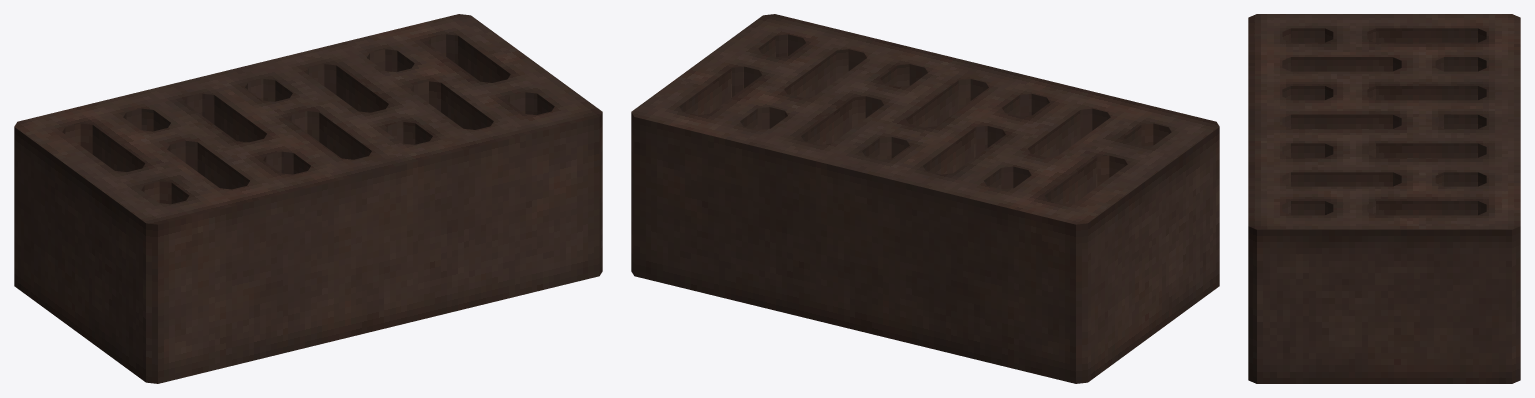
Rendered from brick.glb.
3 views of the same model, side by side, from view 1: azimuth 30°, elevation 25°; view 2: azimuth 150°, elevation 25°; view 3: azimuth 270°, elevation 25° (orthographic). The views are drawn at different scales.
Visible parts, largest first — view 1: brick; view 2: brick; view 3: brick.
Part boxes in pixels (box(x1,y1,x2,y2)): brick: box(14, 14, 602, 383); brick: box(631, 14, 1219, 383); brick: box(1248, 14, 1520, 383).
Size of the model in its own units: 0.42 by 0.14 by 0.224.
Materials: 1 (1 with a texture image).
